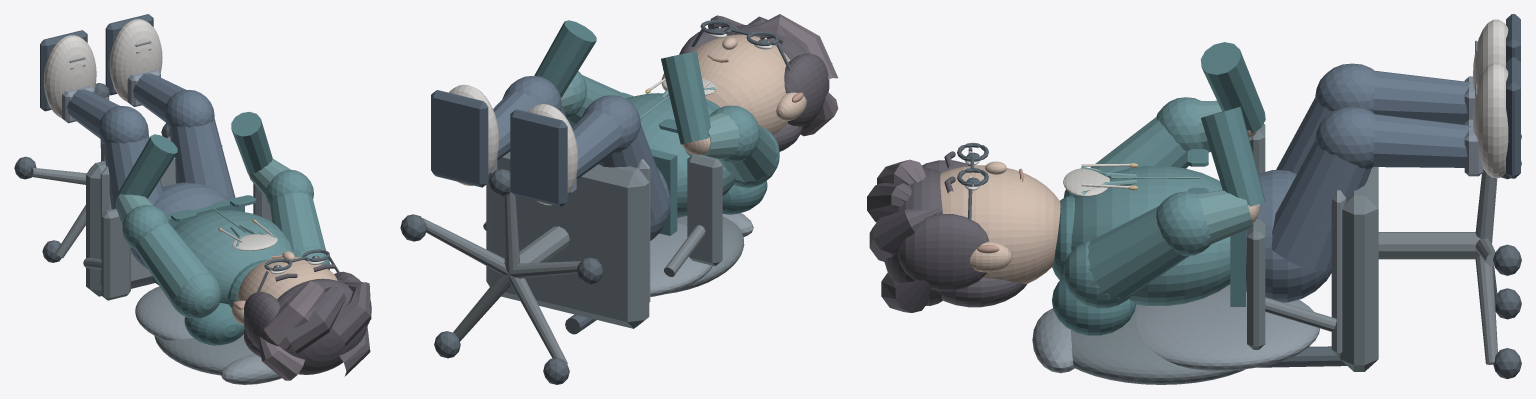
The model's file is 04_developer_idle.glb.
3 renders of one model, left to right at view 1: azimuth 30°, elevation 25°; view 2: azimuth 150°, elevation 25°; view 3: azimuth 270°, elevation 25°, orthographic. The views are drawn at different scales.
Visible parts, largest first — view 1: 0022__hoodie_main_torso, 0078__jeans_thigh, 0089__sleeve_upper, 0082__sneaker, 0072__sneaker, 0019__armrest_cushion, 0044__hair_crown, 0096__sleeve_upper, 0015__backrest_upper, 0092__ribbed_cuff, 0039__face_head, 0011__chair_base_seat (+34 smaller); view 2: 0011__chair_base_seat, 0039__face_head, 0073__rubber_sole, 0083__rubber_sole, 0019__armrest_cushion, 0092__ribbed_cuff, 0022__hoodie_main_torso, 0099__ribbed_cuff, 0014__lumbar_support, 0046__temple_side, 0070__jeans_shin, 0068__jeans_thigh (+35 smaller); view 3: 0014__lumbar_support, 0022__hoodie_main_torso, 0039__face_head, 0011__chair_base_seat, 0078__jeans_thigh, 0096__sleeve_upper, 0015__backrest_upper, 0047__temple_side, 0080__jeans_shin, 0070__jeans_shin, 0036__pants_pelvis, 0099__ribbed_cuff (+38 smaller).
Part boxes in pixels (<box>): 0022__hoodie_main_torso: <box>174,210,292,304</box>; 0078__jeans_thigh: <box>169,118,235,199</box>; 0089__sleeve_upper: <box>135,223,209,304</box>; 0082__sneaker: <box>109,19,162,101</box>; 0072__sneaker: <box>43,35,96,117</box>; 0019__armrest_cushion: <box>101,208,130,300</box>; 0044__hair_crown: <box>277,278,366,374</box>; 0096__sleeve_upper: <box>270,192,325,251</box>; 0015__backrest_upper: <box>154,334,253,375</box>; 0092__ribbed_cuff: <box>117,134,177,198</box>; 0039__face_head: <box>237,256,337,301</box>; 0011__chair_base_seat: <box>86,161,154,296</box>; 0011__chair_base_seat: <box>486,151,649,328</box>; 0039__face_head: <box>692,34,790,134</box>; 0073__rubber_sole: <box>510,109,567,206</box>; 0083__rubber_sole: <box>431,90,488,187</box>; 0019__armrest_cushion: <box>687,154,722,266</box>; 0092__ribbed_cuff: <box>661,51,710,144</box>; 0022__hoodie_main_torso: <box>626,93,735,217</box>; 0099__ribbed_cuff: <box>534,20,596,97</box>; 0014__lumbar_support: <box>650,223,712,296</box>; 0046__temple_side: <box>784,53,829,126</box>; 0070__jeans_shin: <box>572,110,621,179</box>; 0068__jeans_thigh: <box>599,125,667,224</box>; 0014__lumbar_support: <box>1135,284,1319,370</box>; 0022__hoodie_main_torso: <box>1071,166,1230,305</box>; 0039__face_head: <box>940,165,1060,284</box>; 0011__chair_base_seat: <box>1340,167,1378,371</box>; 0078__jeans_thigh: <box>1271,141,1371,270</box>; 0096__sleeve_upper: <box>1087,206,1188,299</box>; 0015__backrest_upper: <box>1071,304,1245,384</box>; 0047__temple_side: <box>898,214,988,291</box>; 0080__jeans_shin: <box>1373,114,1471,167</box>; 0070__jeans_shin: <box>1373,71,1470,124</box>; 0036__pants_pelvis: <box>1246,170,1331,302</box>; 0099__ribbed_cuff: <box>1201,106,1265,206</box>.
Size of the model in its own units: 0.816 by 1.01 by 1.85.
